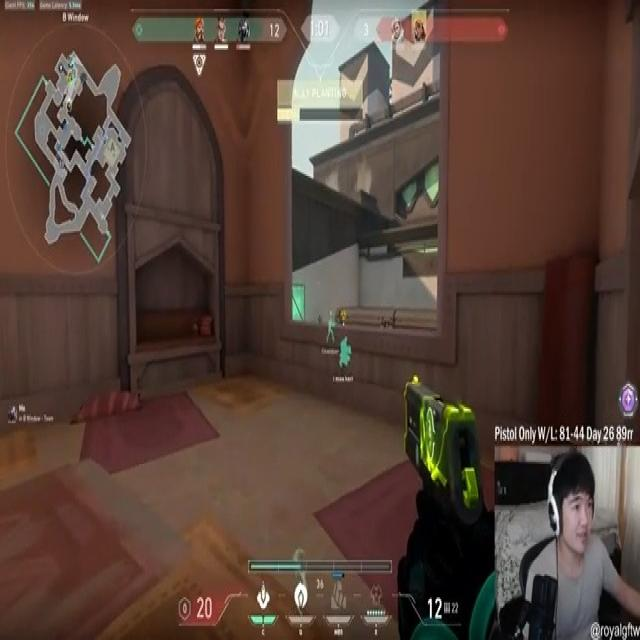ally behind wall: (322, 310, 338, 345), (340, 330, 352, 371)
